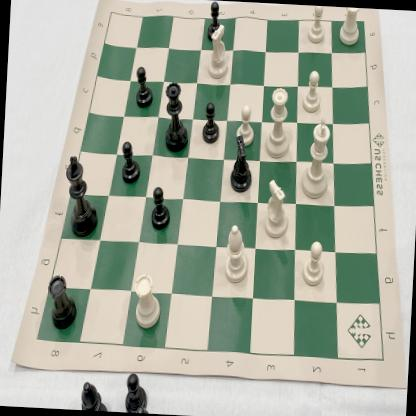black-king: (62, 152, 104, 240)
black-knight: (226, 134, 256, 194)
black-pawn: (148, 184, 173, 232), (118, 140, 142, 187), (200, 101, 224, 147), (132, 65, 154, 111), (204, 0, 226, 43)
black-queen: (160, 76, 192, 156)
black-rook: (42, 270, 82, 334)
white-bishop: (222, 221, 252, 284)
white-king: (298, 115, 334, 202)
white-knight: (260, 178, 290, 240), (206, 22, 232, 80)
white-pawn: (300, 236, 328, 288), (235, 101, 258, 147), (301, 67, 323, 115), (305, 5, 328, 45)
white-queen: (263, 84, 292, 161)
white-rook: (130, 268, 166, 330), (334, 7, 362, 51)
